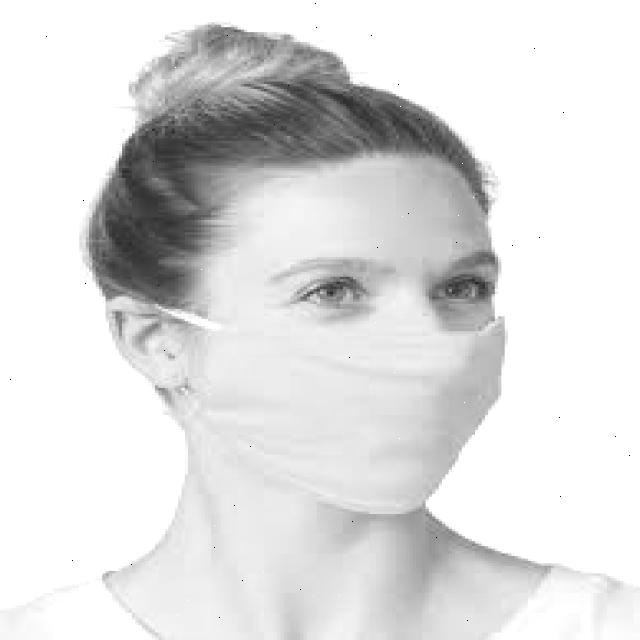fake: (181, 304, 508, 518)
real: (191, 154, 508, 532)
